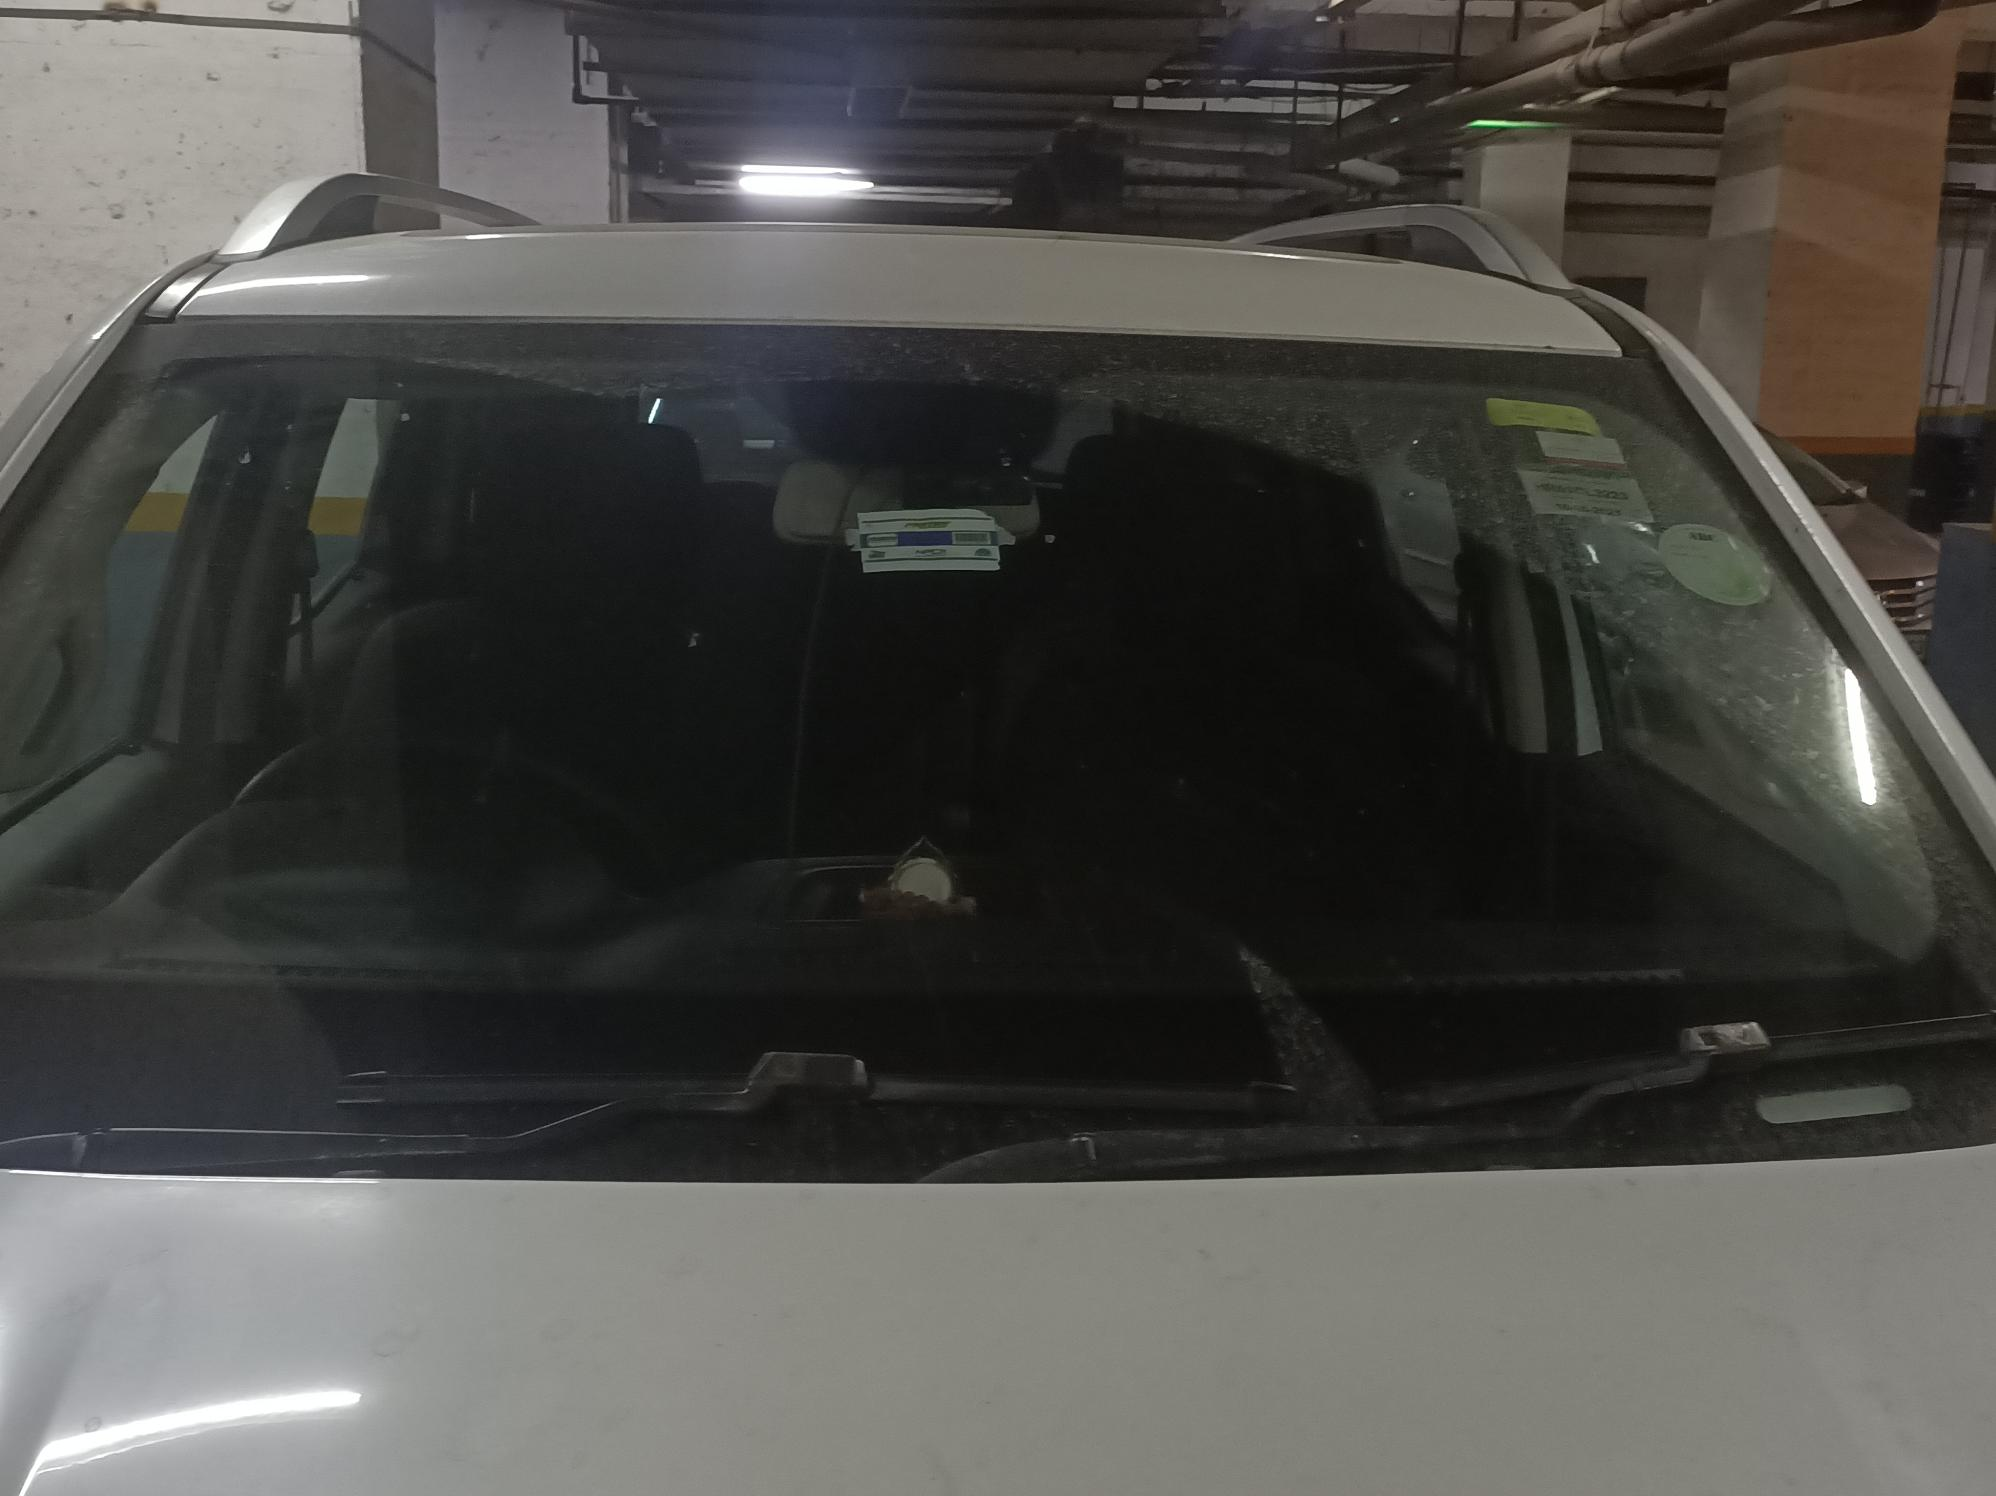FastTag: (823, 490, 1030, 590)
not a FastTag: (1651, 521, 1801, 615), (1464, 374, 1610, 432), (1524, 467, 1668, 521), (1535, 423, 1636, 471)
